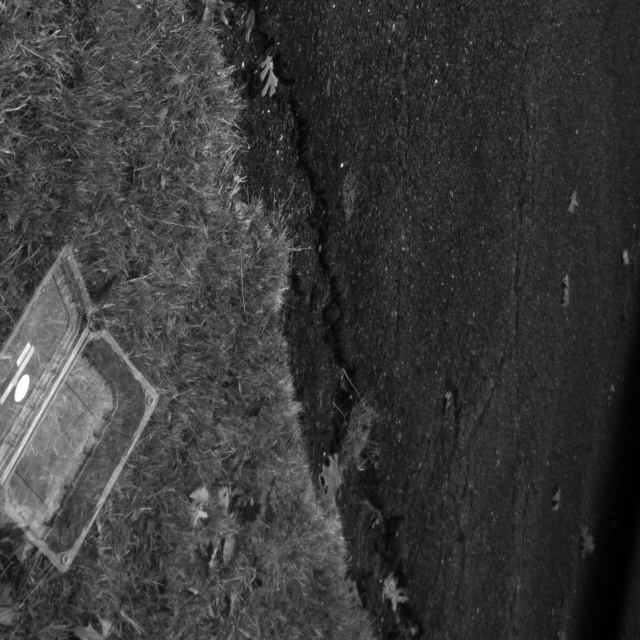container: (0, 240, 169, 579)
